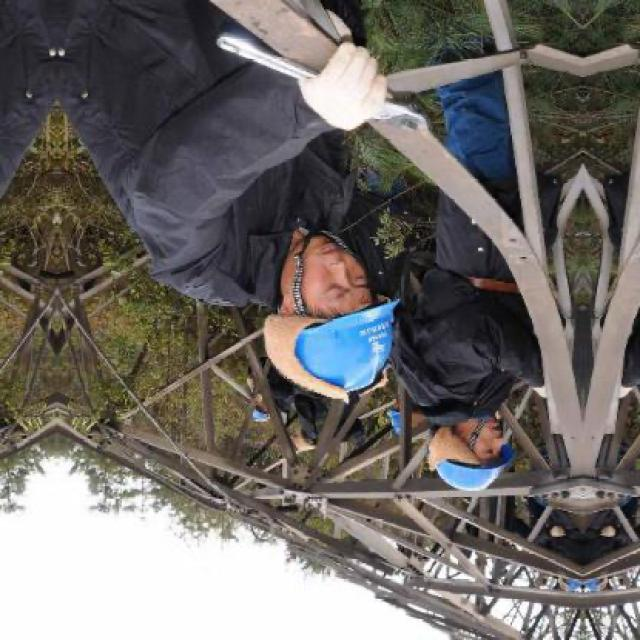con casco: (266, 227, 406, 401), (429, 407, 518, 486)
